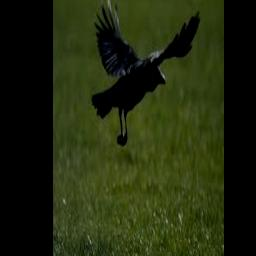Crow: (91, 0, 200, 146)
